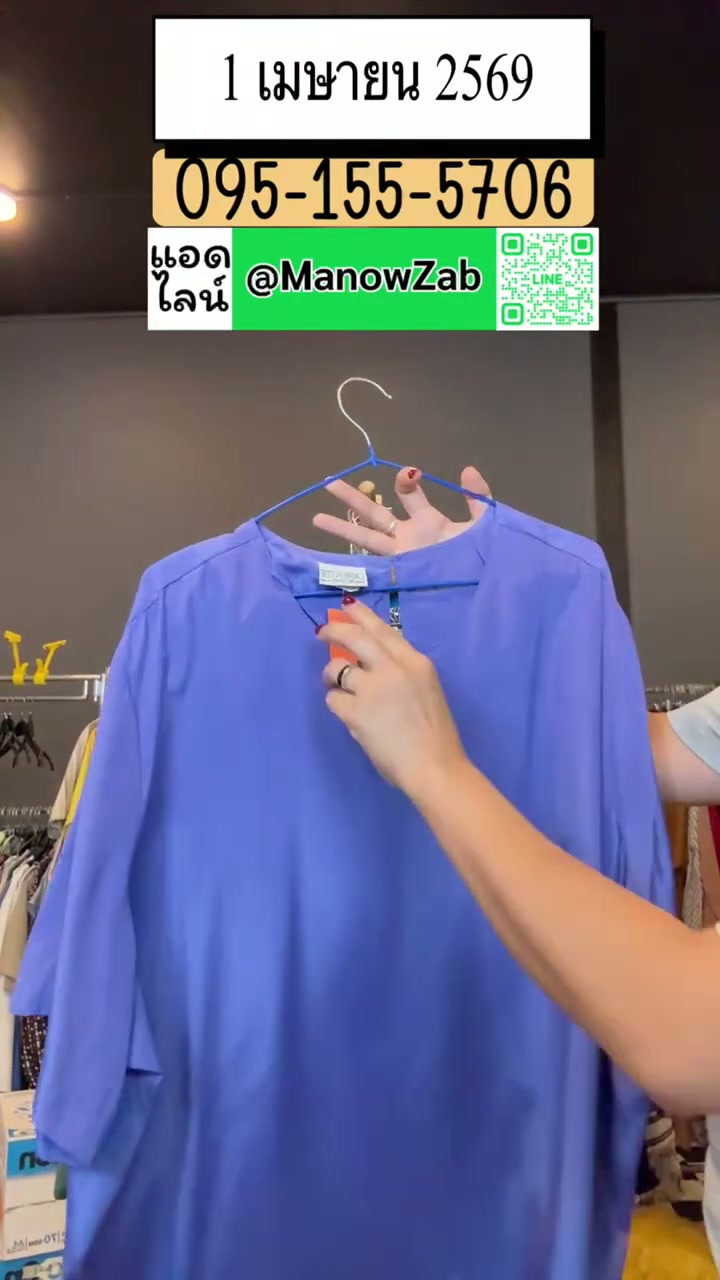display_shirt: (18, 506, 671, 1279)
